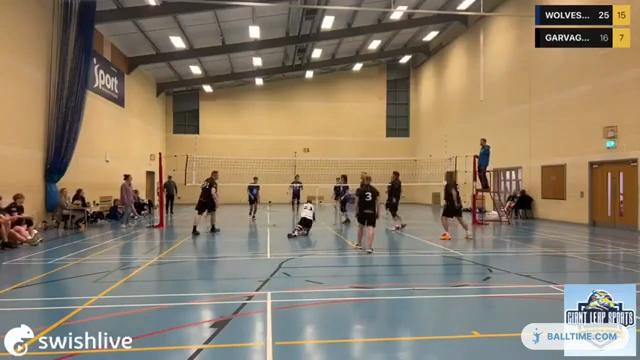difesa: (284, 197, 317, 239)
